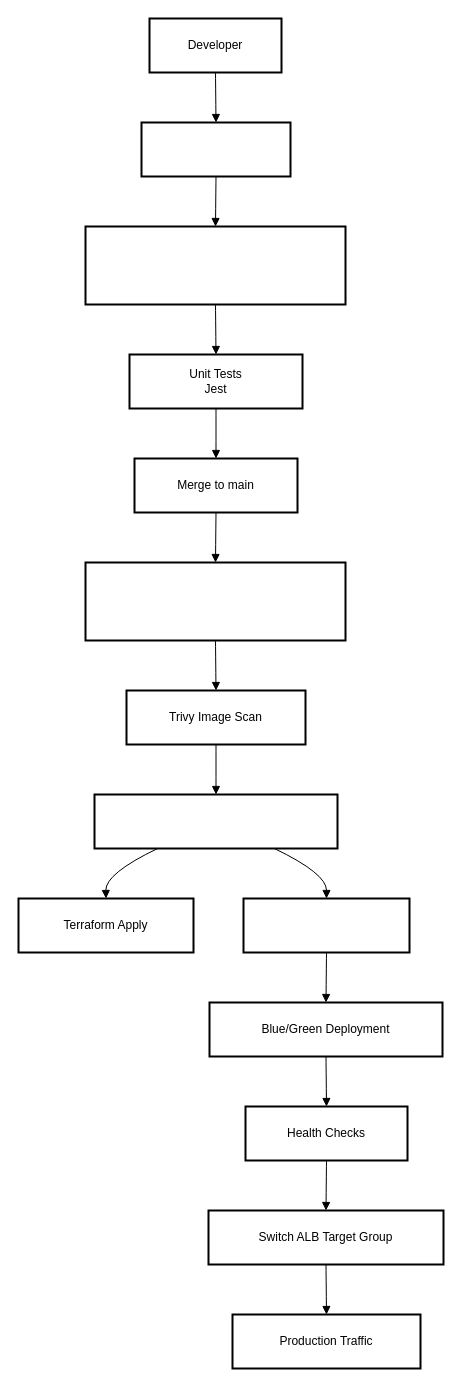
The diagram is 461 pixels wide and 1386 high, and some of its shapes have lost their labels. The shapes that lost their labels are listed below. From the top down, each one's centre as x and y in pixels, then its label:
(x=215, y=149): Pull Request
(x=215, y=265): Security Scans SonarQube • Snyk • Checkov
(x=215, y=601): Build Workflow Docker Build
(x=215, y=821): Push Image to DockerHub
(x=326, y=925): Deploy via SSM
